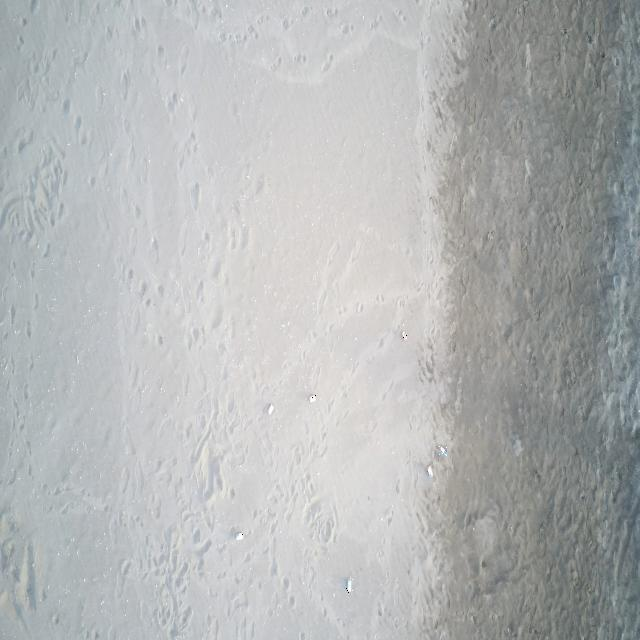tin-and-aluminum-cans: (346, 577, 353, 593), (268, 404, 276, 417), (308, 394, 318, 404), (438, 446, 446, 457), (236, 531, 244, 542), (427, 466, 433, 480), (401, 330, 407, 342)
